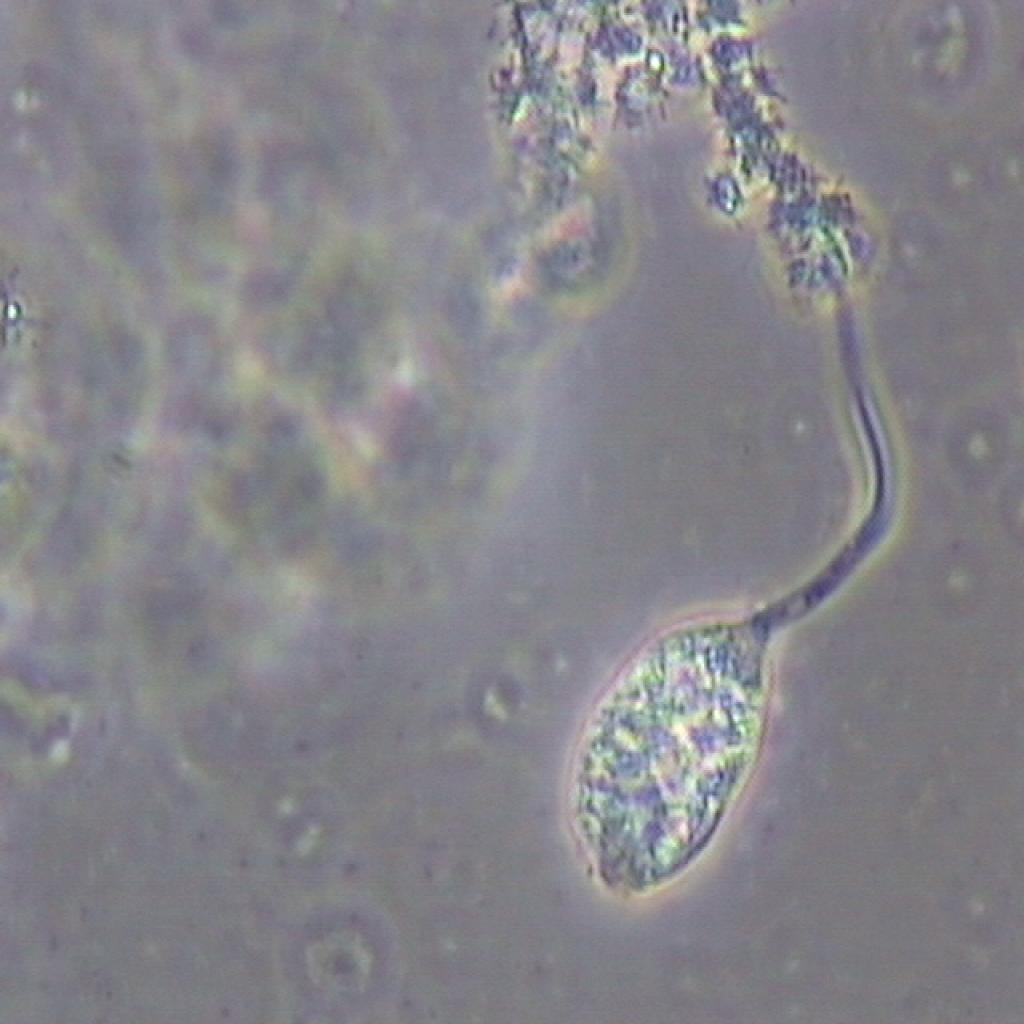Vorticella: (508, 434, 878, 908)
